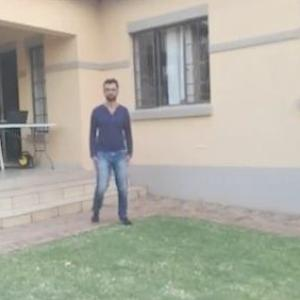follow: (87, 70, 135, 236)
